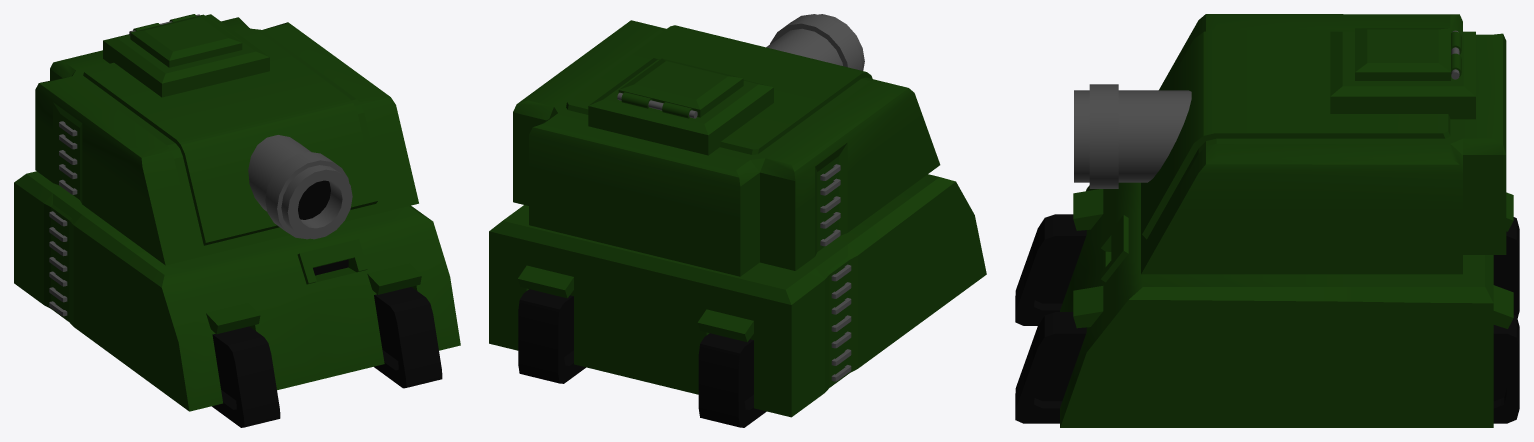
The model's file is tank.fbx.
3 renders of one model, left to right at view 1: azimuth 30°, elevation 25°; view 2: azimuth 150°, elevation 25°; view 3: azimuth 270°, elevation 25°, orthographic. The views are drawn at different scales.
Visible parts, largest first — view 1: turret, Object001; view 2: turret, Object001; view 3: turret, Object001.
Boxes of the visible parts, box(x1,y1,x2,y2) form: turret: box(35, 14, 418, 265); Object001: box(14, 171, 460, 427); turret: box(513, 14, 940, 276); Object001: box(489, 174, 986, 427); turret: box(1074, 14, 1506, 274); Object001: box(1015, 182, 1519, 427).
Bounding box in the file's own units: 0.3157 × 0.2827 × 0.4071.
